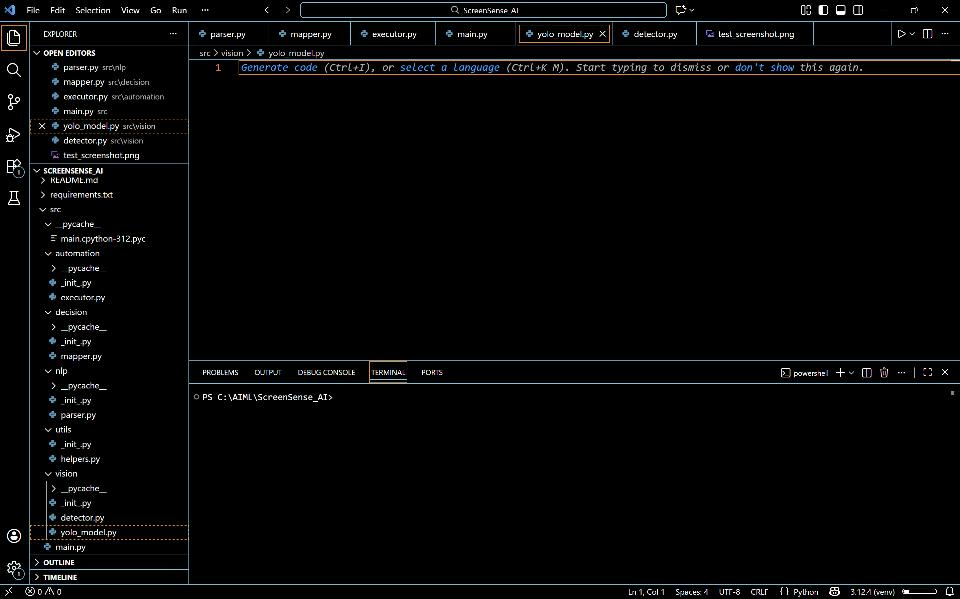close_button: (937, 1, 955, 20)
maximize_button: (903, 1, 925, 19)
minimize_button: (875, 1, 895, 19)
